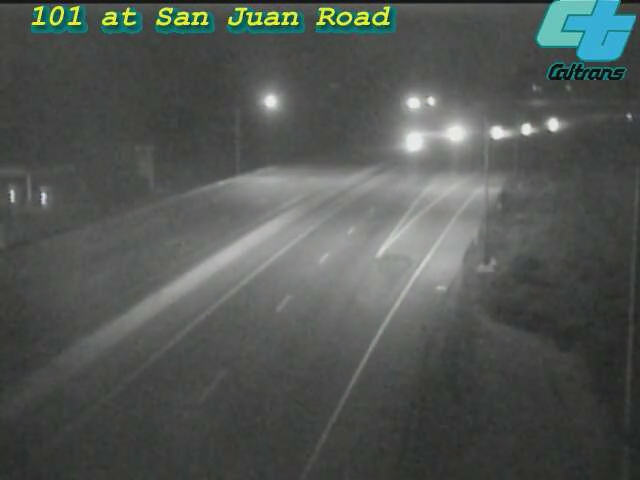vehicle: (393, 115, 443, 165), (432, 108, 482, 158), (527, 100, 577, 150), (501, 104, 551, 154), (471, 108, 521, 158)
